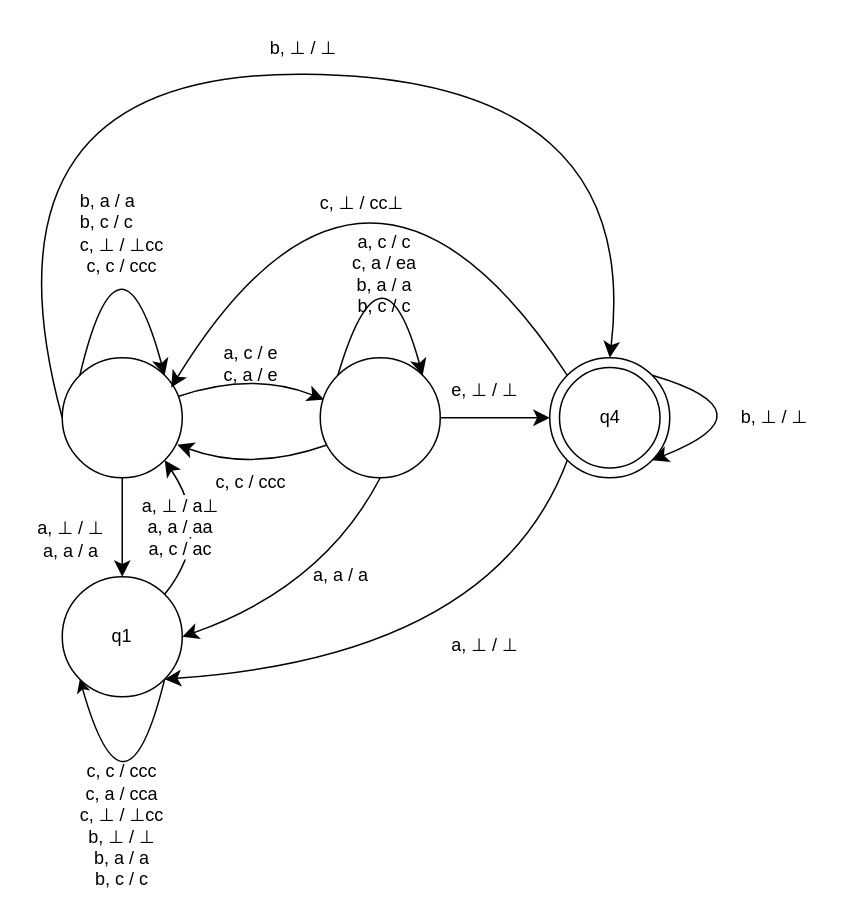
Image size: 845x915. Some labels were removed from this diagram. Here are the shapes that lost their labels. From the top down, the centre of each, then its label:
At (121,417): "q0".
At (379,417): "q3".
